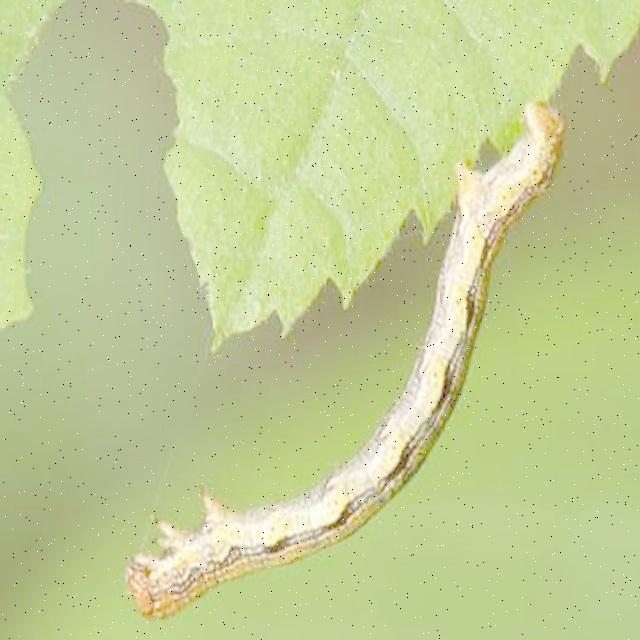worm: (124, 98, 566, 621)
